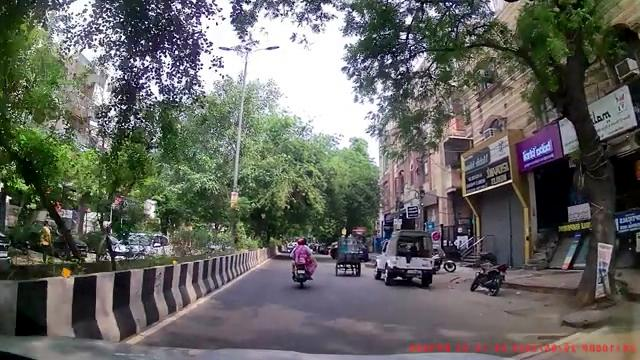passenger_with_helmet: (290, 236, 316, 288)
